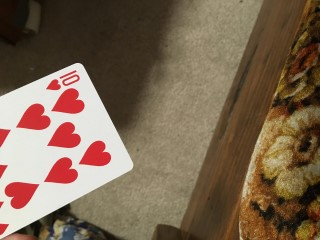TenOfHearts: (1, 63, 134, 240)
